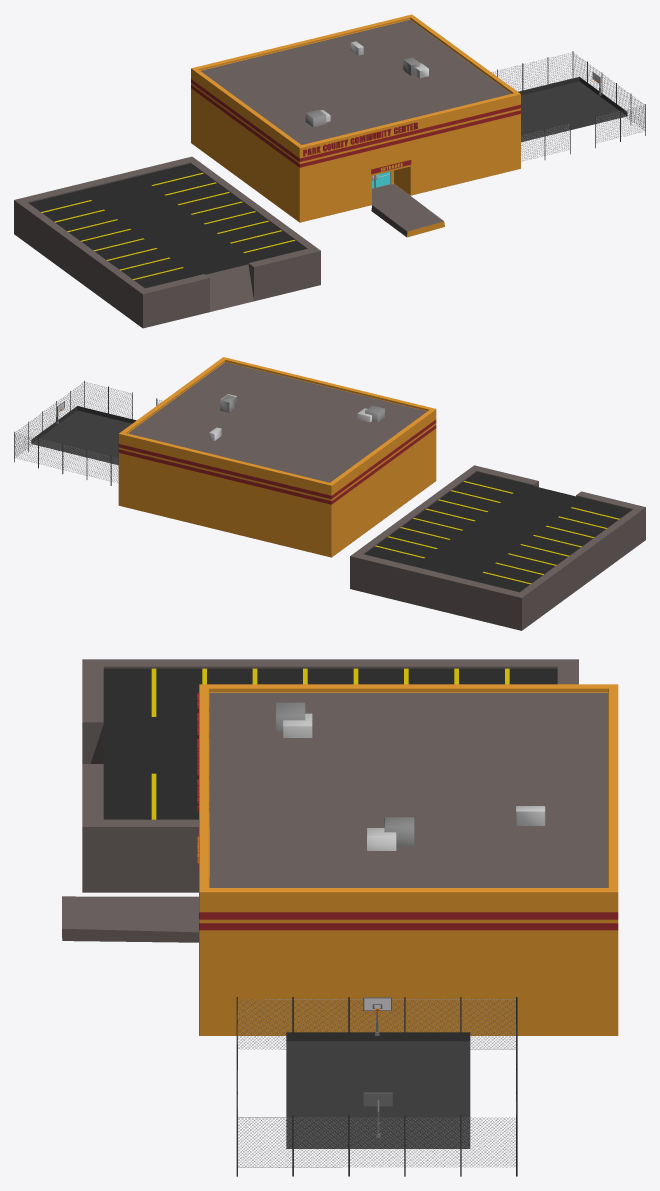
Rendered from communitycenter_compressed.glb.
3 views of the same model, one above another, from view 1: azimuth 30°, elevation 25°; view 2: azimuth 150°, elevation 25°; view 3: azimuth 270°, elevation 25° (orthographic). The views are drawn at different scales.
Parts seen in each view (by area): view 1: Cube.253, Cube.262, Cube.273, Plane.019, Cube.254, Cylinder.018; view 2: Cube.253, Cube.262, Cube.273, Plane.019, Cube.254, Cylinder.018; view 3: Cube.253, Cube.273, Cube.262, Plane.019, Cube.255, Cylinder.018, Cube.254, Cube.265.
Boxes of the visible parts, x1,y1,x2,y2 form: Cube.253: (14,14,520,328); Cube.262: (29,163,306,288); Cube.273: (518,77,627,141); Plane.019: (491,52,645,161); Cube.254: (305,57,419,189); Cylinder.018: (497,51,645,159); Cube.253: (118,357,645,630); Cube.262: (364,472,631,592); Cube.273: (31,406,136,464); Plane.019: (14,382,161,482); Cube.254: (220,395,384,422); Cylinder.018: (14,380,157,485); Cube.253: (62,659,618,1035); Cube.273: (286,1032,470,1148); Cube.262: (103,668,557,819); Plane.019: (237,999,516,1167); Cube.255: (283,713,545,850); Cylinder.018: (236,997,517,1176); Cube.254: (276,702,414,846); Cube.265: (363,997,392,1137).
Size of the model in its own units: 10.37 by 2.22 by 4.95.
